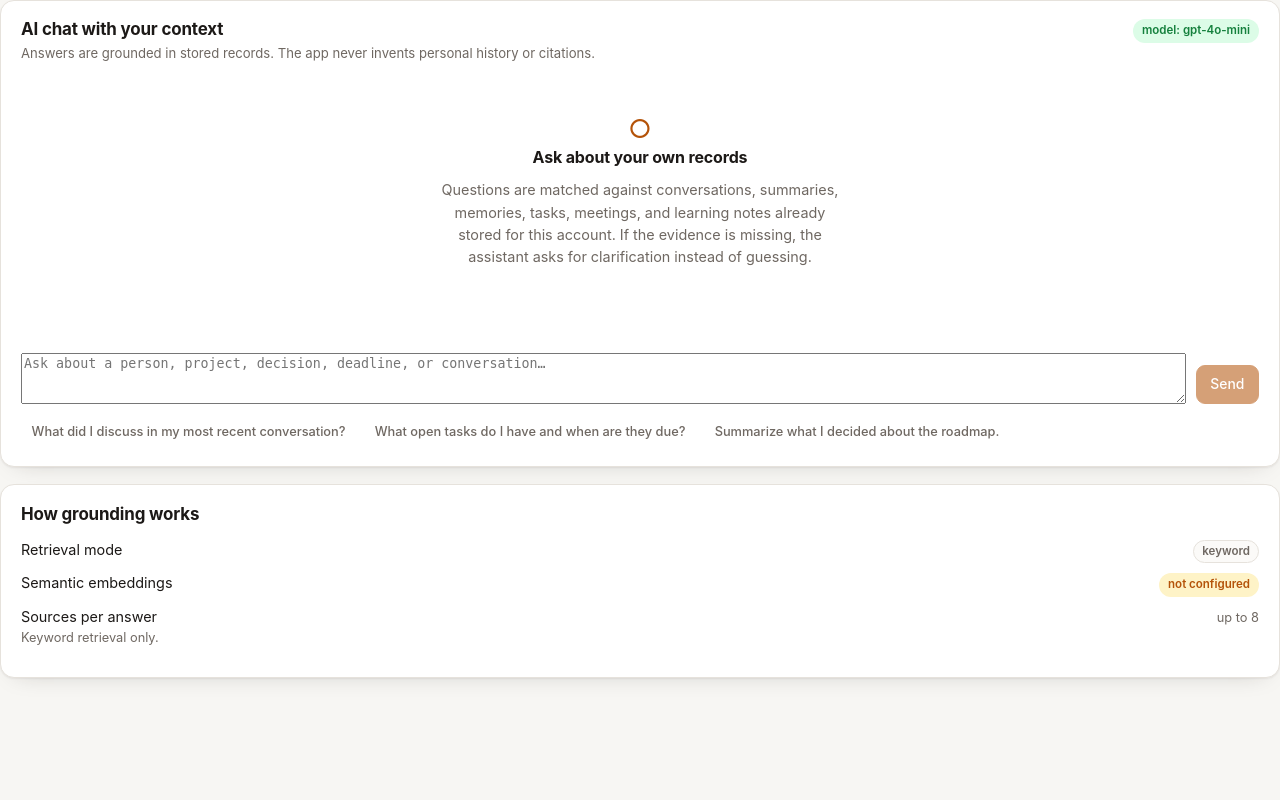
AI chat page › surfaces a provider failure instead of showing a fake answer
Expected: the text "model: gpt-4o-mini" is shown, [1133,19,1259,43]
Type "roadmap?" into the text box.
click(603, 378); type("roadmap?")  # box [21,353,1186,404]
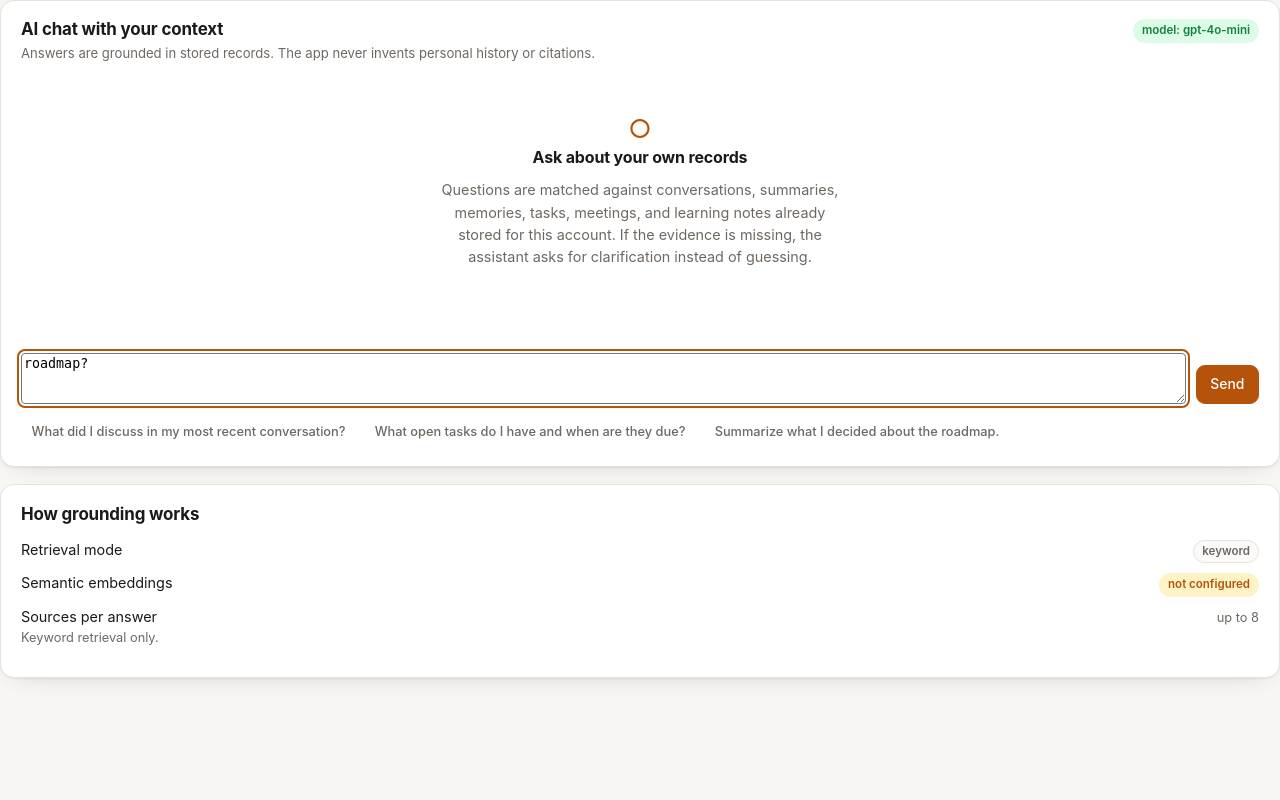
Click the button "Send".
click(1227, 384)  # box [1196,365,1259,404]
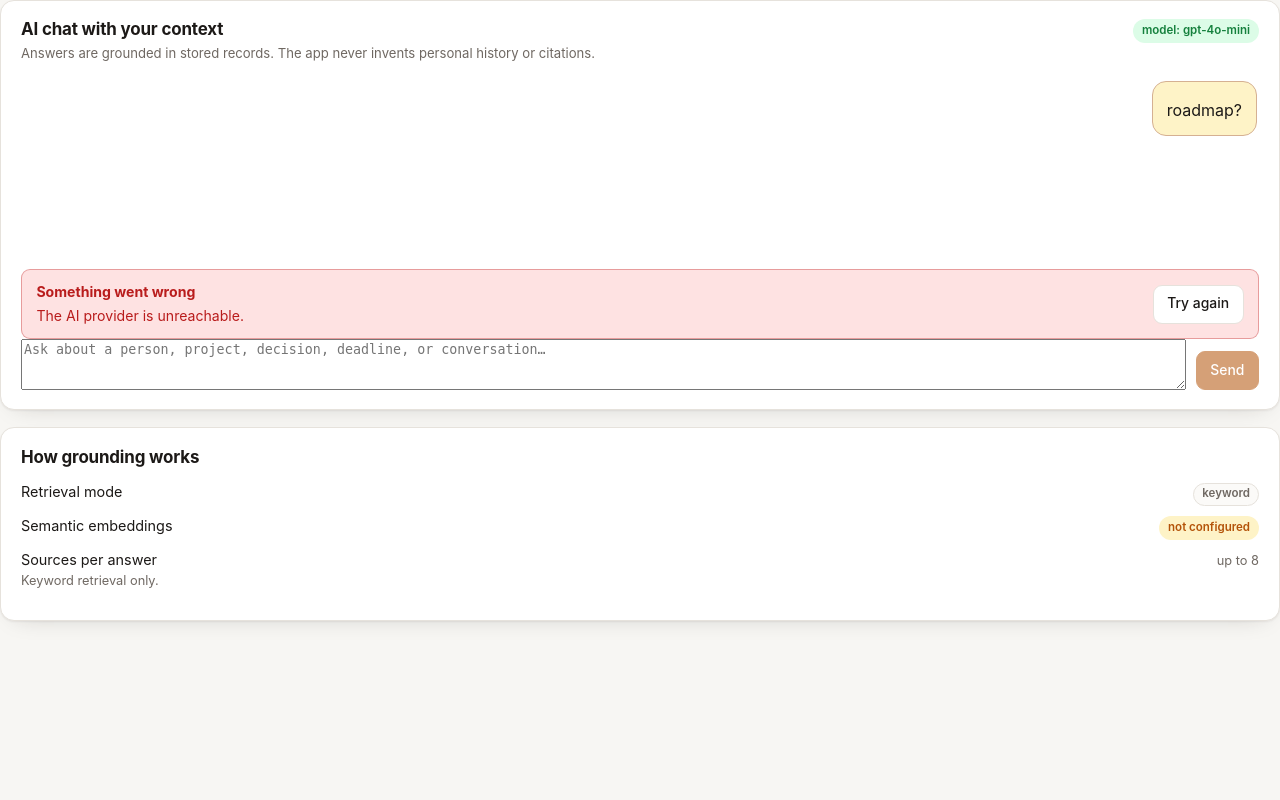
Result: the message shows "The AI provider is unreachable." at [36,307,244,324]
